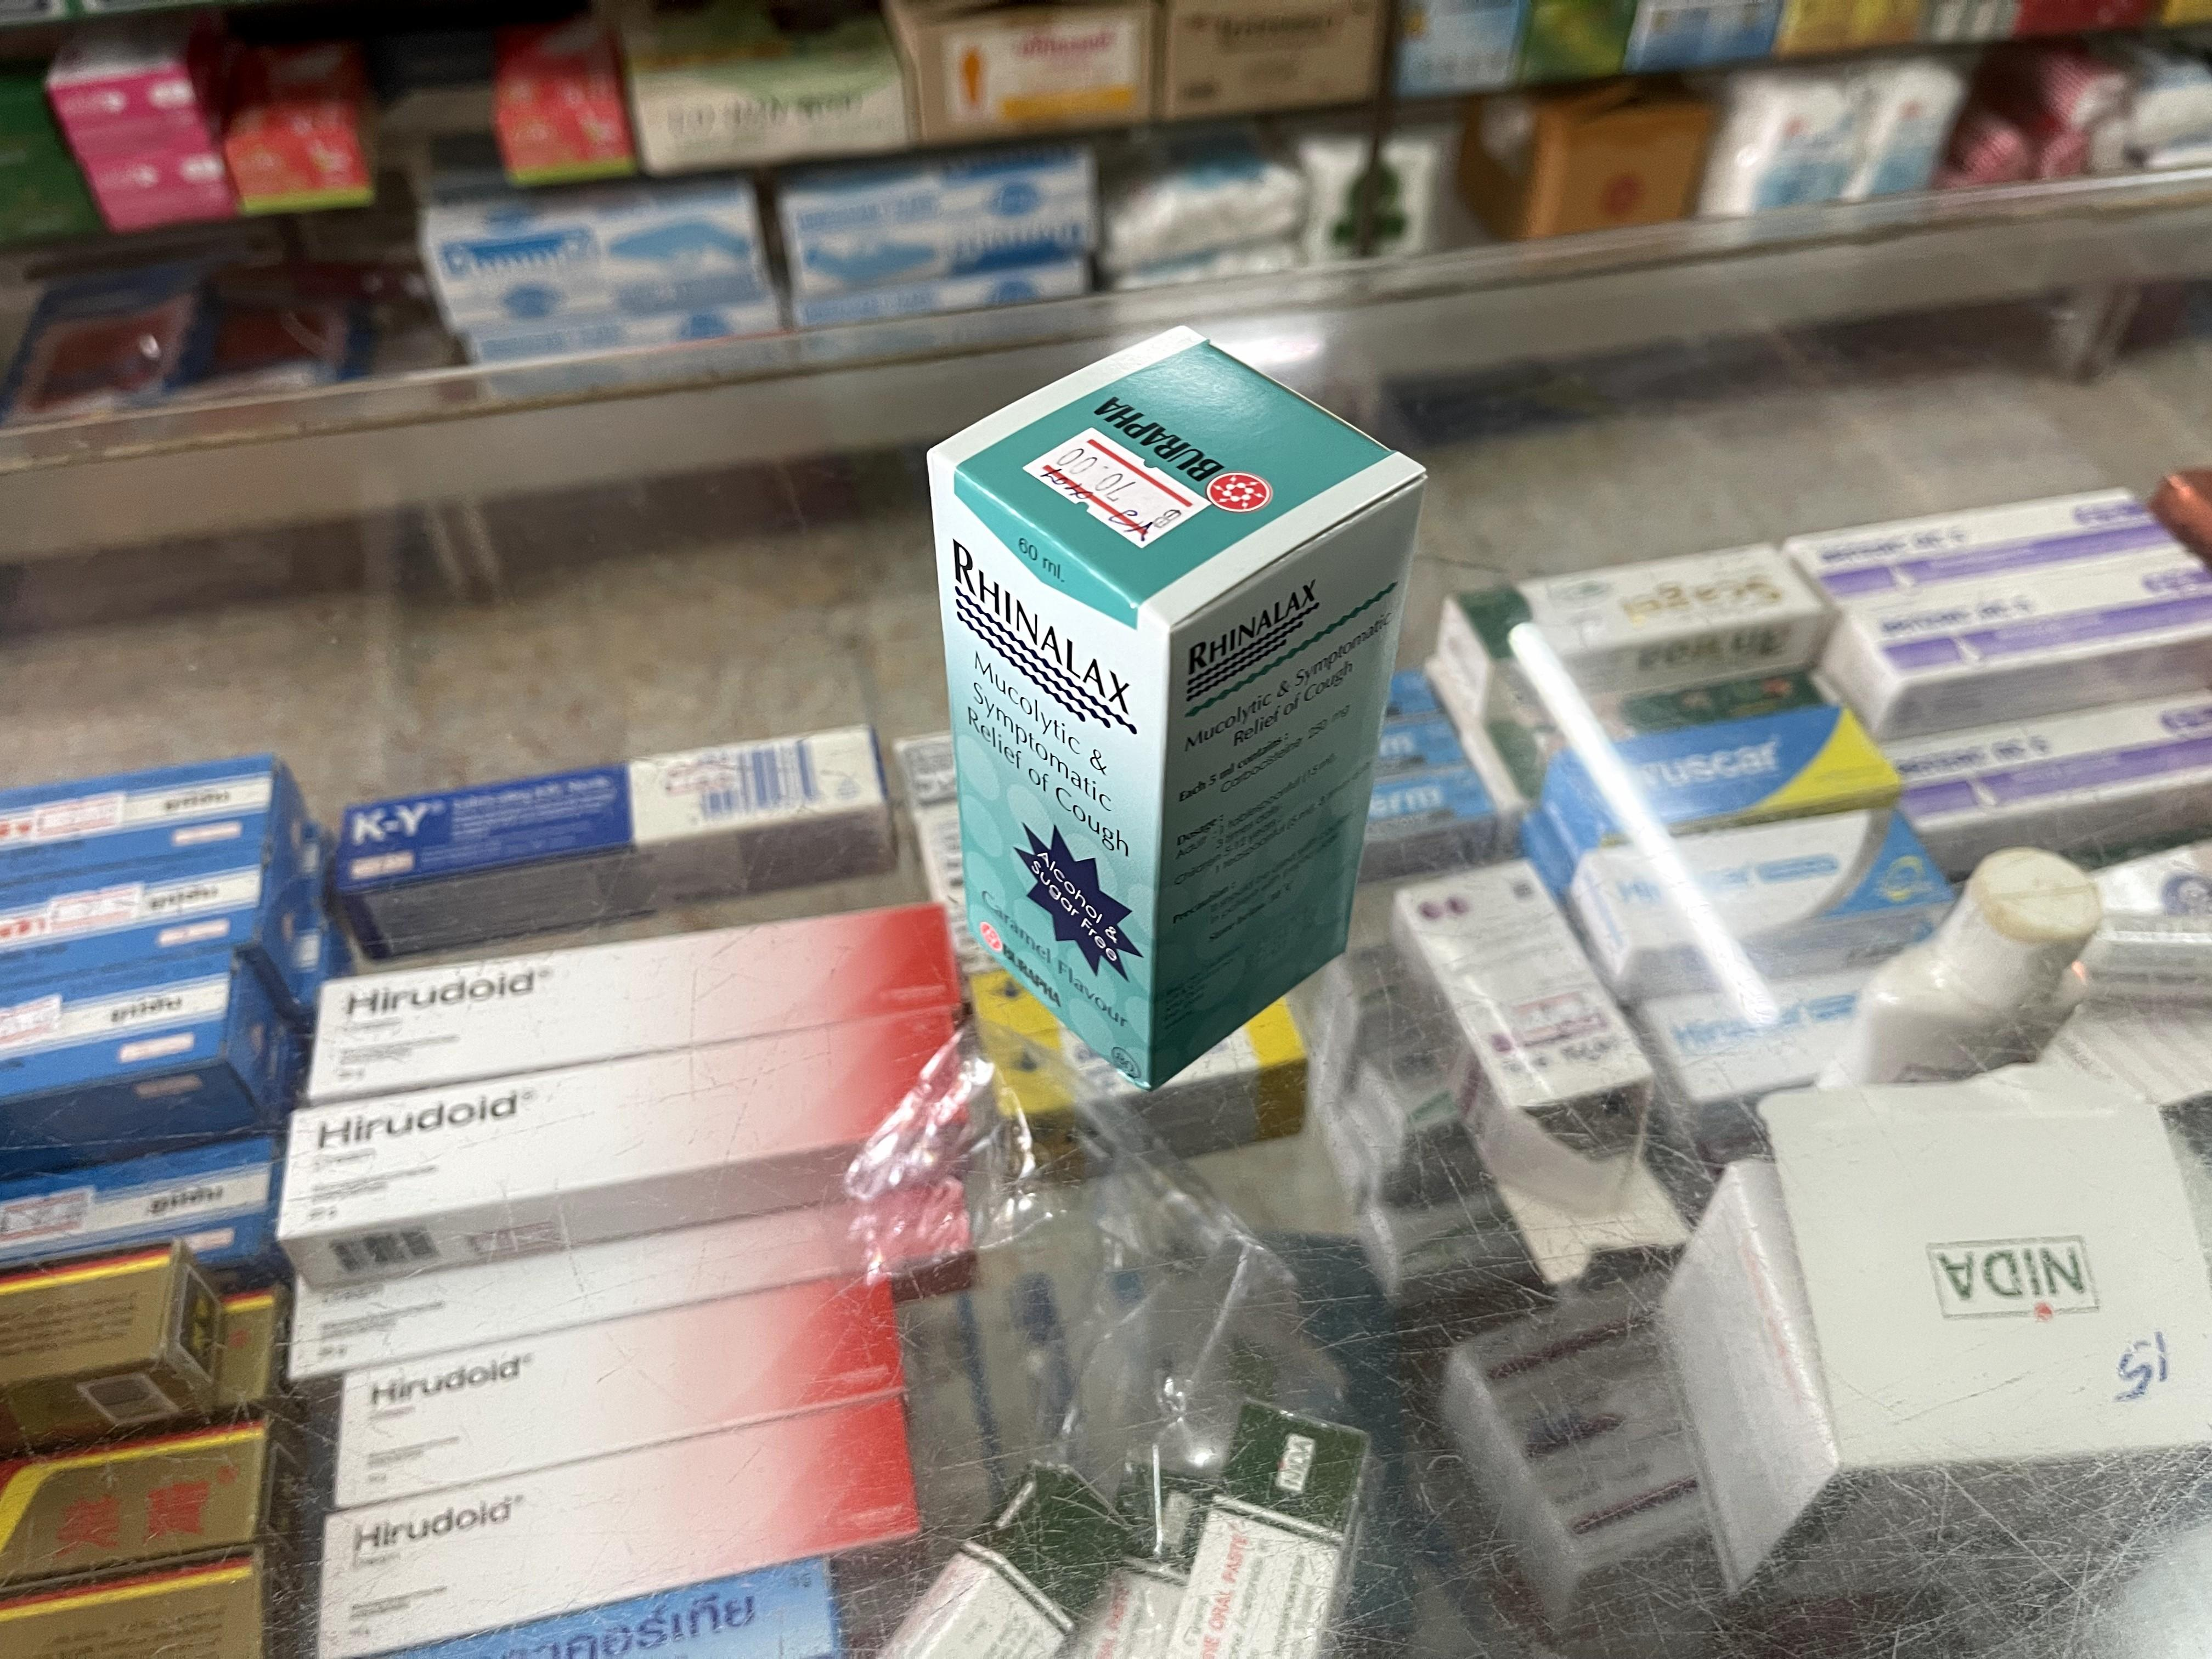Rhinalax: (927, 321, 1426, 1091)
